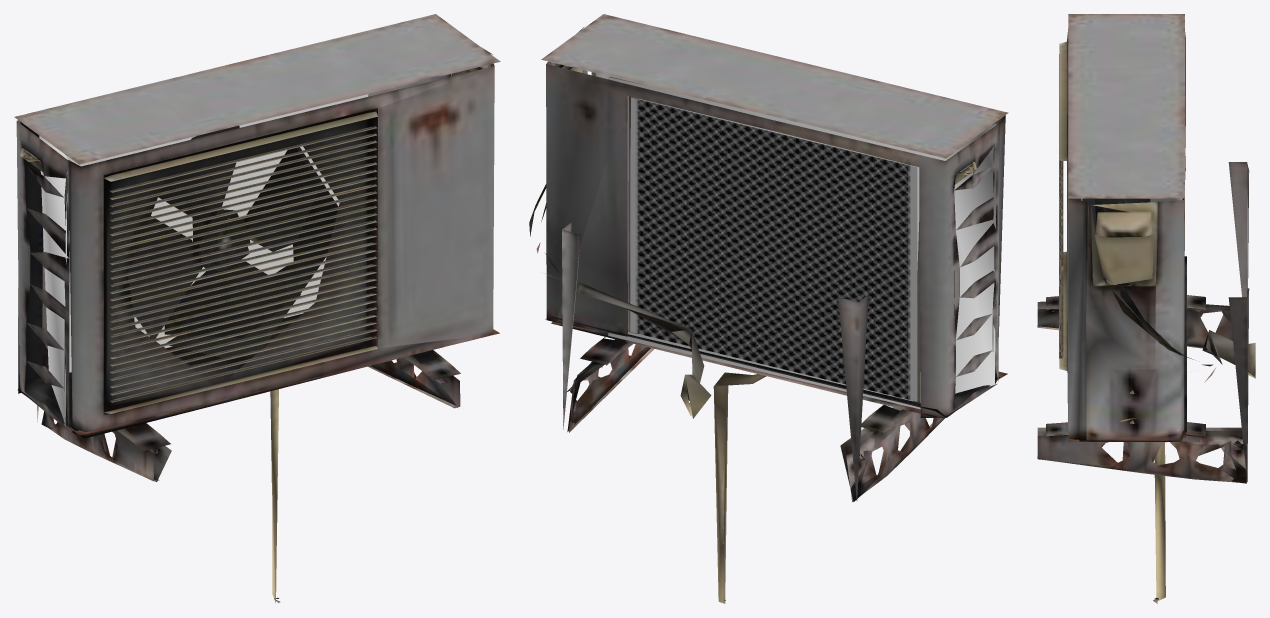
File: aircon_old.glb
The picture shows the model from 3 angles, left to right: view 1: azimuth 30°, elevation 25°; view 2: azimuth 150°, elevation 25°; view 3: azimuth 270°, elevation 25°; orthographic projection. The views are drawn at different scales.
Parts seen in each view (by area): view 1: exterior_aircon_unit_rusted; view 2: exterior_aircon_unit_rusted; view 3: exterior_aircon_unit_rusted.
Part boxes in pixels (x1=…): exterior_aircon_unit_rusted: x1=14, y1=14, x2=500, y2=603; exterior_aircon_unit_rusted: x1=529, y1=14, x2=1008, y2=603; exterior_aircon_unit_rusted: x1=1037, y1=14, x2=1255, y2=603.
Bounding box in the file's own units: 0.7934 × 0.9134 × 0.375.
2 materials, 2 textured.
